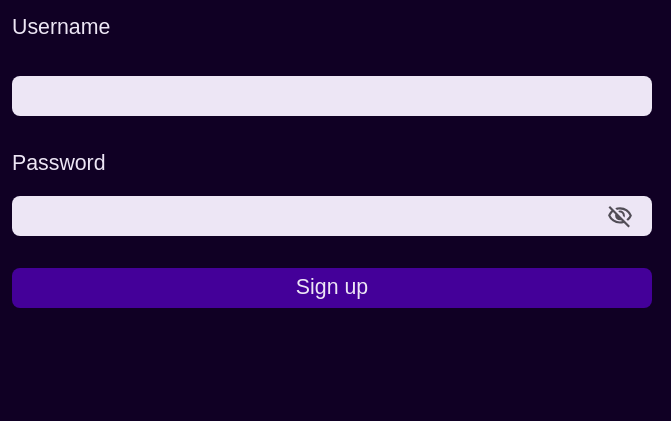
Test: Render signup page › Form submission failed if required fields are empty
Click the button "Sign up".
click(332, 288)  # box [12,268,652,308]
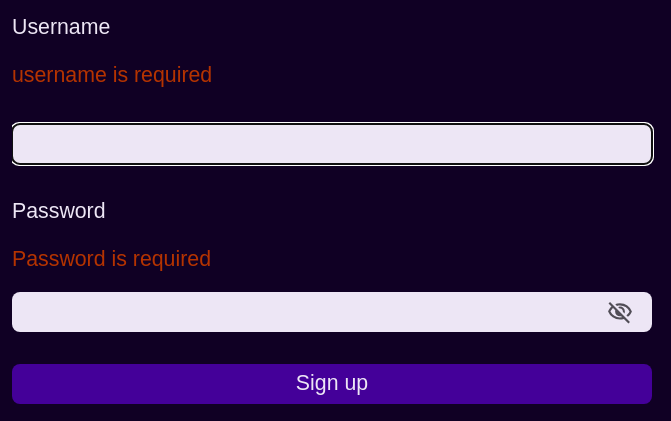
Check: the text with test id "rfh-username-err" reads "username is required", box [12,63,212,87]
Check: the text with test id "rfh-password-err" reads "Password is required", box [12,247,211,271]
